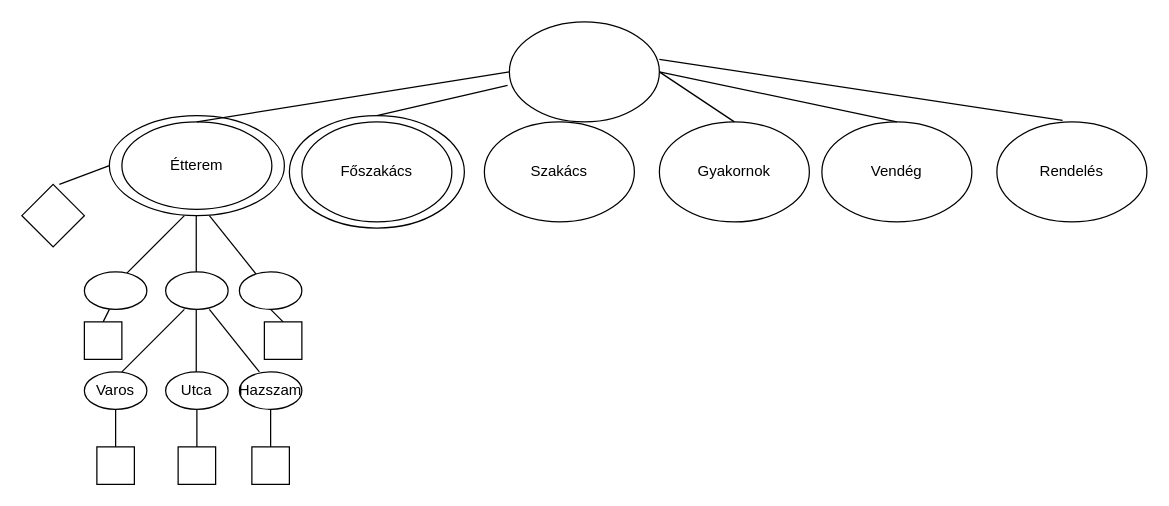
The diagram is 1169 pixels wide and 506 high, and some of its shapes have lost their labels. The centre of each missing label's shape, as x and y in pixels:
"Csillag" goes at (x=270, y=290).
"CÍm" goes at (x=196, y=290).
"E.kod" goes at (x=52, y=215).
"Nev" goes at (x=115, y=290).
"Vendéglátás" goes at (x=583, y=71).
